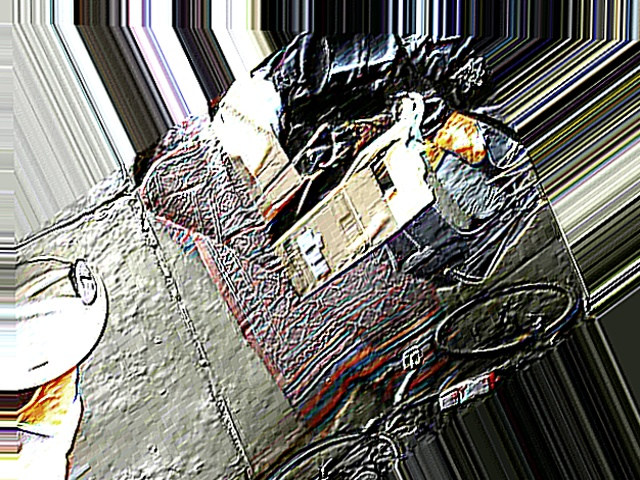one: (67, 256, 103, 308)
